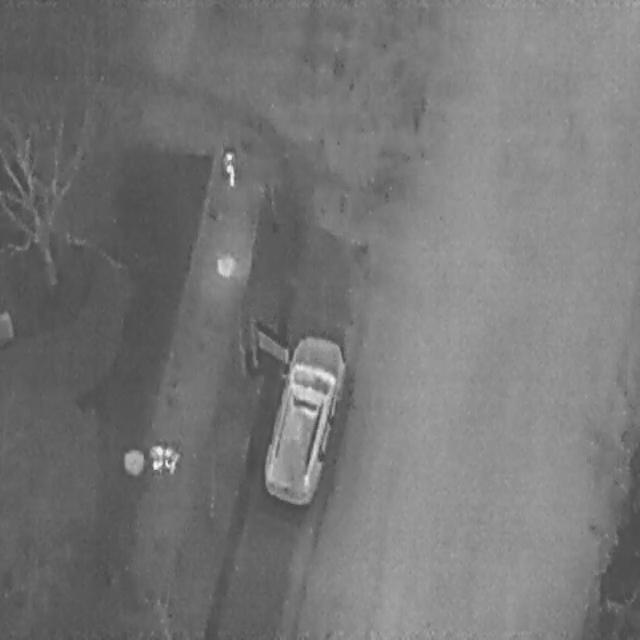Car: (259, 329, 349, 506)
Person: (222, 150, 235, 185), (165, 444, 179, 474), (150, 444, 163, 470)
